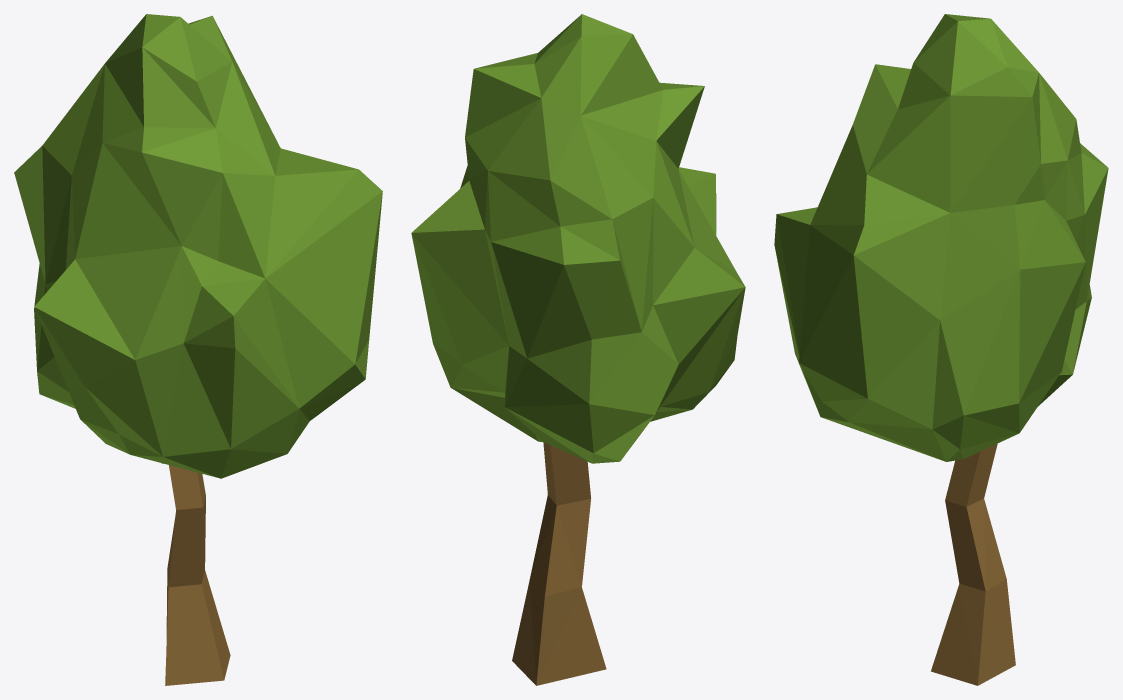
The model's file is Env_Tree07.fbx.
3 views of the same model, side by side, from view 1: azimuth 30°, elevation 25°; view 2: azimuth 150°, elevation 25°; view 3: azimuth 270°, elevation 25° (orthographic). The views are drawn at different scales.
Parts seen in each view (by area): view 1: Env_Tree07; view 2: Env_Tree07; view 3: Env_Tree07.
Part boxes in pixels (box(x1,y1,x2,y2)): Env_Tree07: box(14, 14, 382, 685); Env_Tree07: box(411, 14, 745, 685); Env_Tree07: box(774, 14, 1108, 685).
Size of the model in its own units: 206 by 427 by 203.
1 material, 1 textured.
